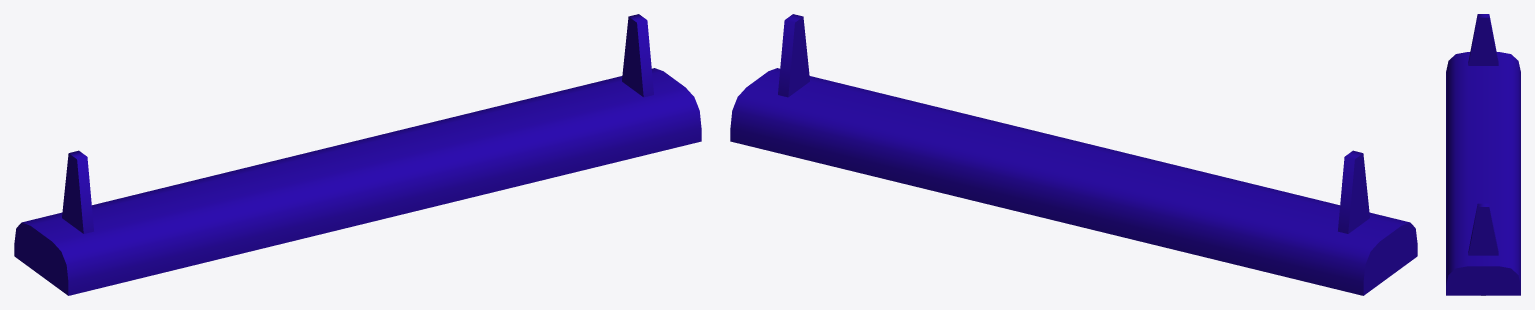
Rendered from LampCeiling_07.FBX.
The picture shows the model from 3 angles, left to right: view 1: azimuth 30°, elevation 25°; view 2: azimuth 150°, elevation 25°; view 3: azimuth 270°, elevation 25°; orthographic projection. The views are drawn at different scales.
Parts seen in each view (by area): view 1: SM_LampCeilingA_06; view 2: SM_LampCeilingA_06; view 3: SM_LampCeilingA_06.
Boxes of the visible parts, <box> form: SM_LampCeilingA_06: <box>14,14,701,295</box>; SM_LampCeilingA_06: <box>730,14,1417,295</box>; SM_LampCeilingA_06: <box>1446,14,1520,295</box>.
Size of the model in its own units: 200 by 38.04 by 29.56.
